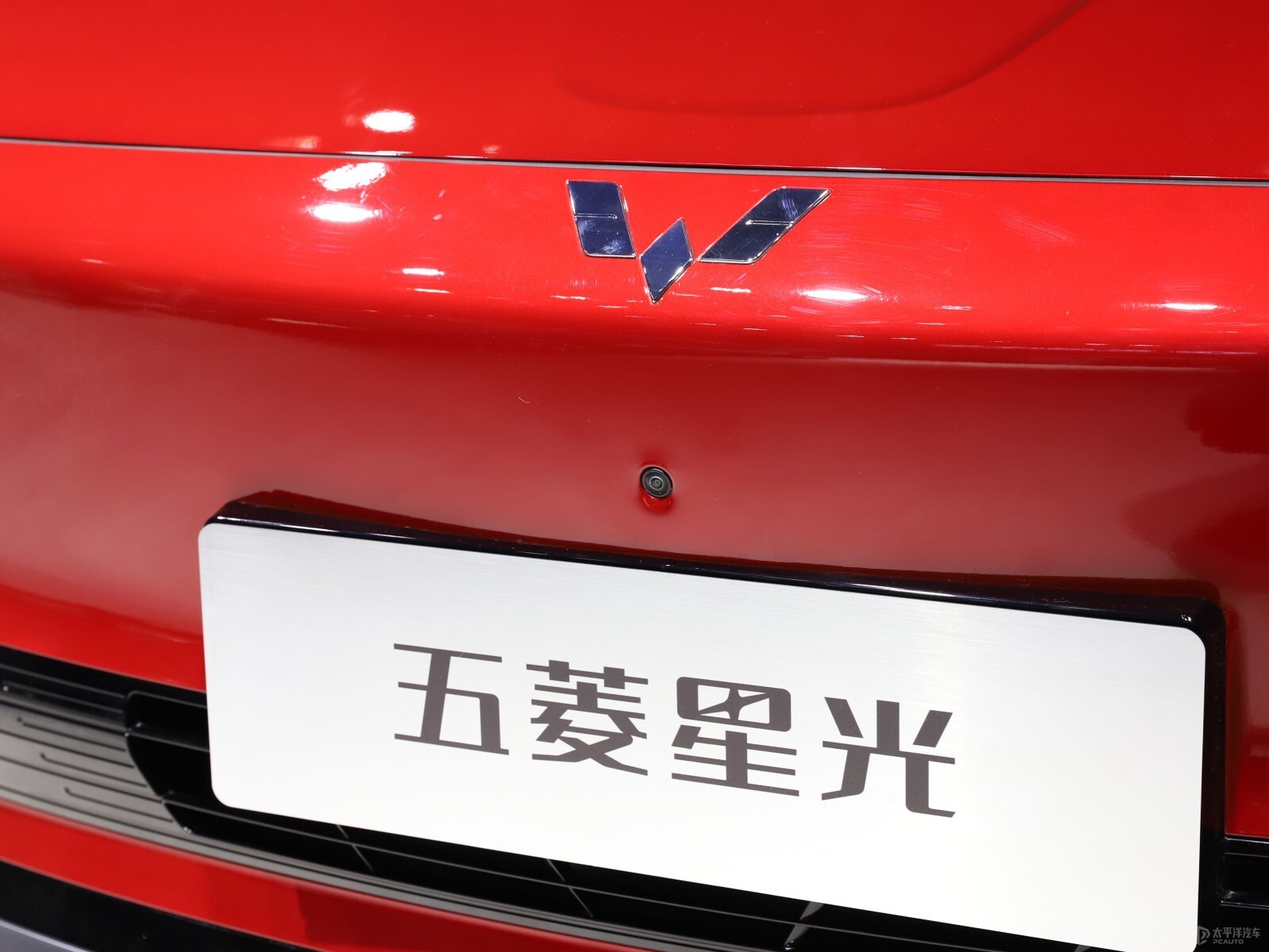SGMW: (567, 181, 831, 301)
